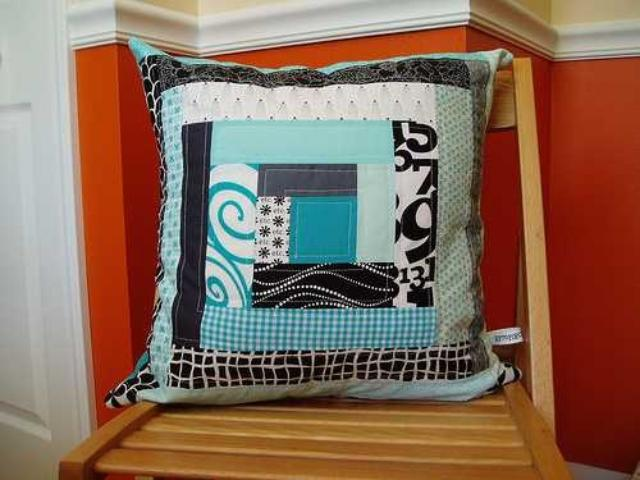pillow: (104, 35, 516, 407)
